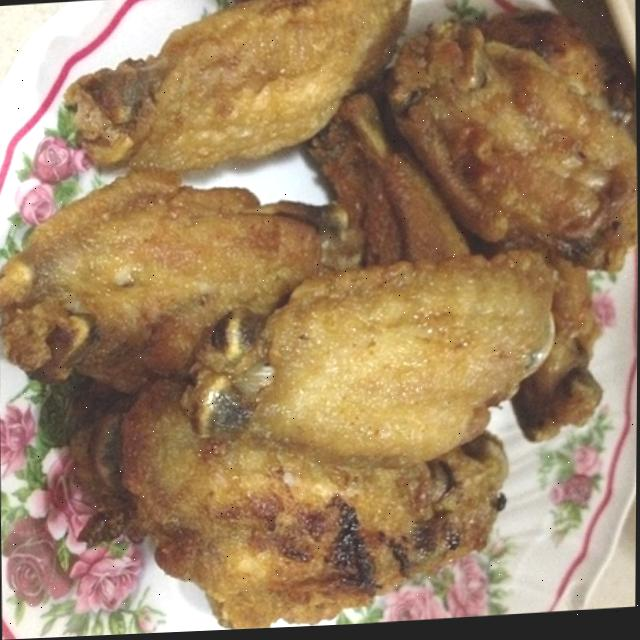鸡肉料理 含炸鸡: (38, 27, 622, 597)
